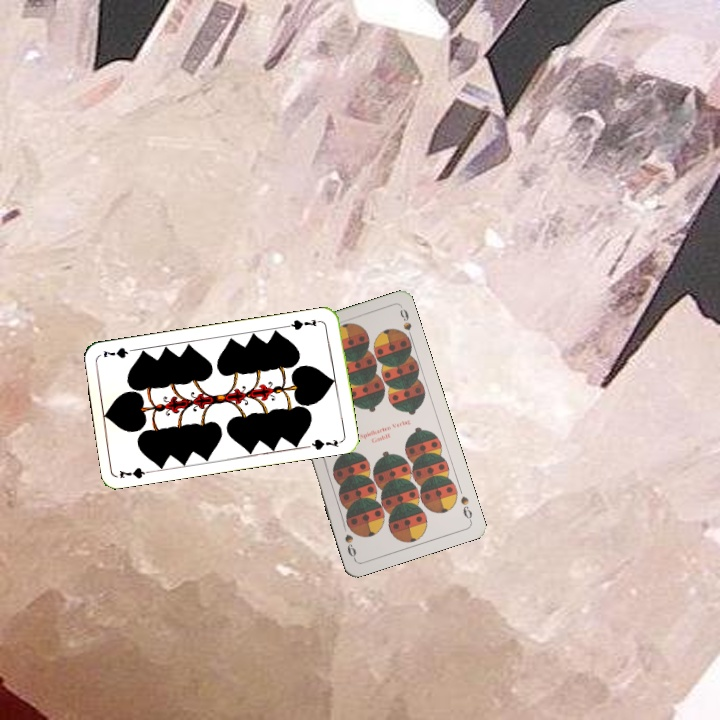G7: (115, 463, 157, 481), (284, 315, 324, 333)
S9: (456, 492, 475, 524)
